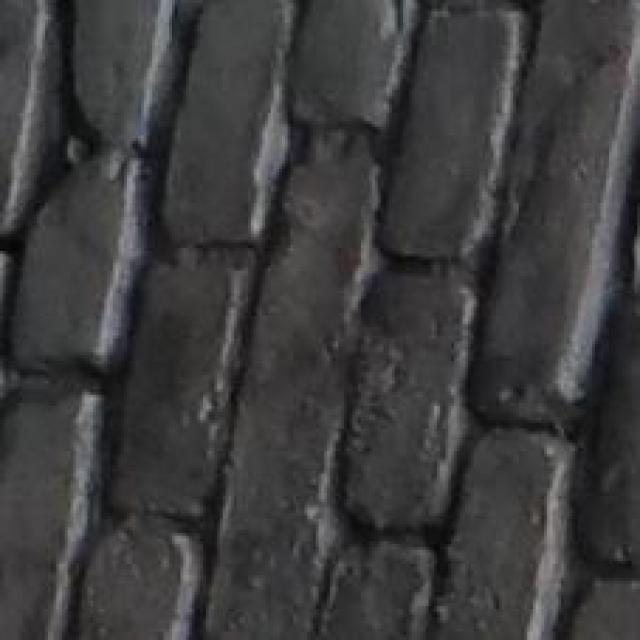Crack: (310, 225, 640, 640), (0, 0, 191, 417)
